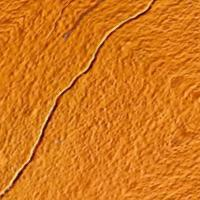crack: (0, 2, 159, 199)
